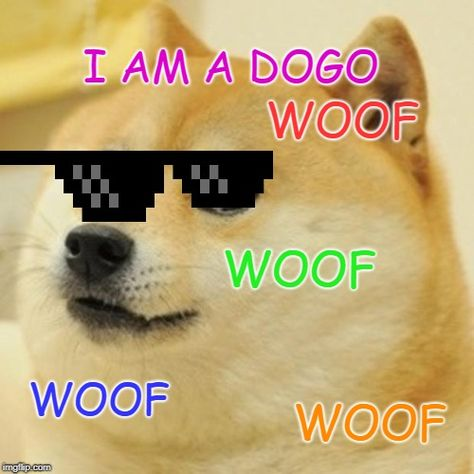doge: (7, 18, 436, 449)
